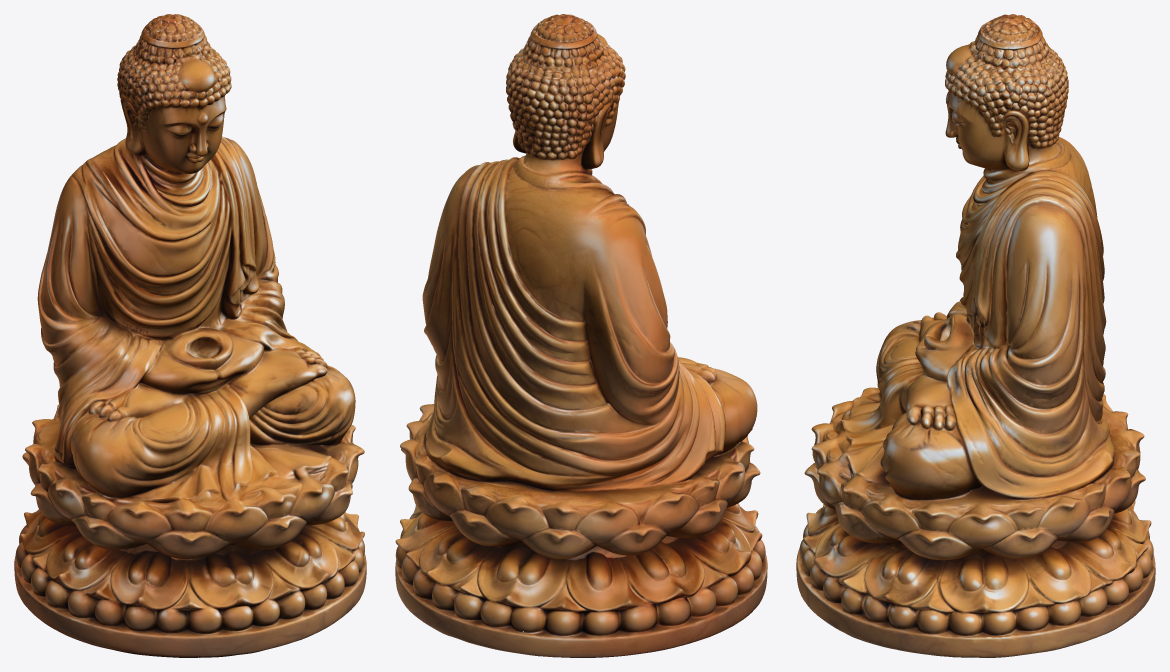
Rendered from buddha_4.glb.
The picture shows the model from 3 angles, left to right: view 1: azimuth 30°, elevation 25°; view 2: azimuth 150°, elevation 25°; view 3: azimuth 270°, elevation 25°; orthographic projection. The views are drawn at different scales.
Visible parts, largest first — view 1: tripo_node_351cb002-faa7-4a78-ba1c-9d99e8f325e7; view 2: tripo_node_351cb002-faa7-4a78-ba1c-9d99e8f325e7; view 3: tripo_node_351cb002-faa7-4a78-ba1c-9d99e8f325e7.
Boxes of the visible parts, x1,y1,x2,y2 form: tripo_node_351cb002-faa7-4a78-ba1c-9d99e8f325e7: (14, 14, 366, 657); tripo_node_351cb002-faa7-4a78-ba1c-9d99e8f325e7: (395, 14, 767, 657); tripo_node_351cb002-faa7-4a78-ba1c-9d99e8f325e7: (796, 14, 1155, 657).
Bounding box in the file's own units: 0.5661 × 0.9802 × 0.562.
1 material, 1 textured.
